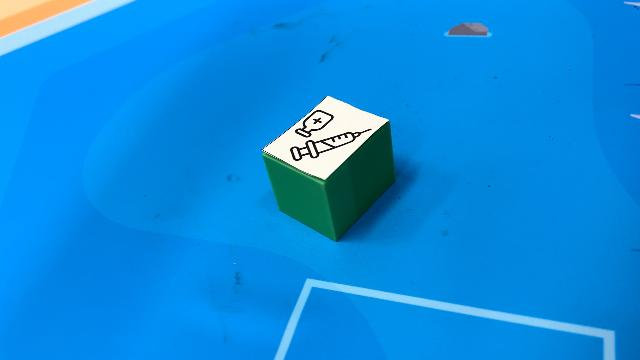syringe: (263, 98, 397, 242)
